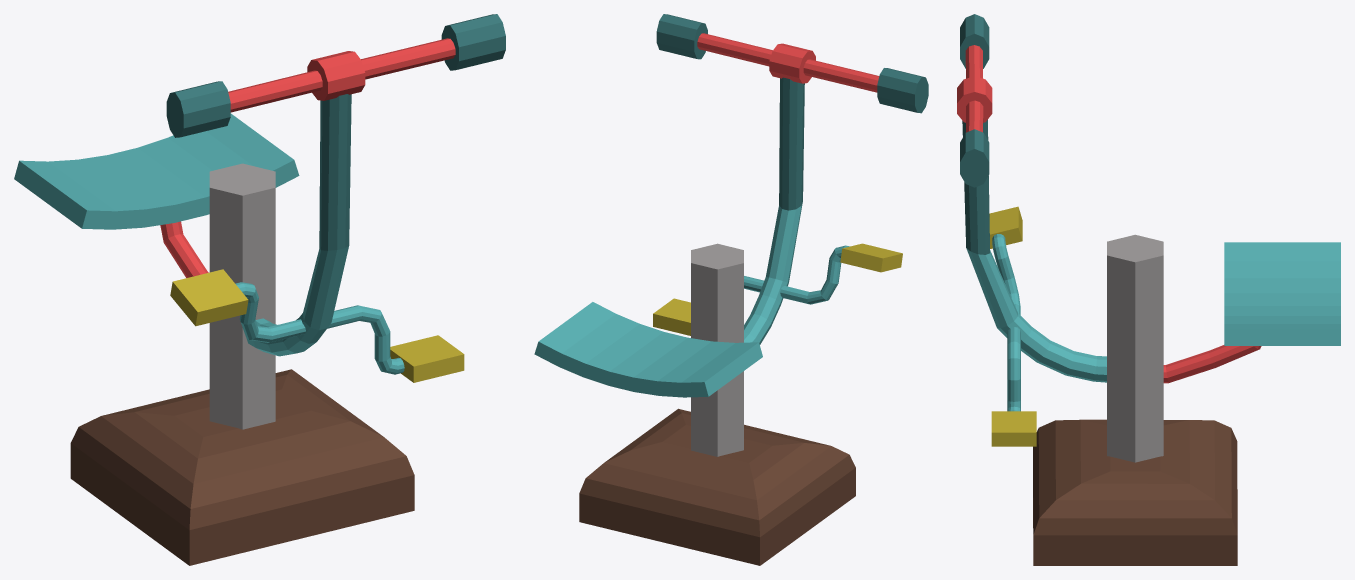
Rendered from D1_GYM1.fbx.
3 renders of one model, left to right at view 1: azimuth 30°, elevation 25°; view 2: azimuth 150°, elevation 25°; view 3: azimuth 270°, elevation 25°, orthographic. The views are drawn at different scales.
Visible parts, largest first — view 1: D1_GIMNASIO1; view 2: D1_GIMNASIO1; view 3: D1_GIMNASIO1.
Part boxes in pixels (box(x1,y1,x2,y2)): D1_GIMNASIO1: box(14, 14, 505, 565); D1_GIMNASIO1: box(534, 14, 928, 565); D1_GIMNASIO1: box(957, 14, 1340, 565).
Bounding box in the file's own units: 115 × 174 × 138.
